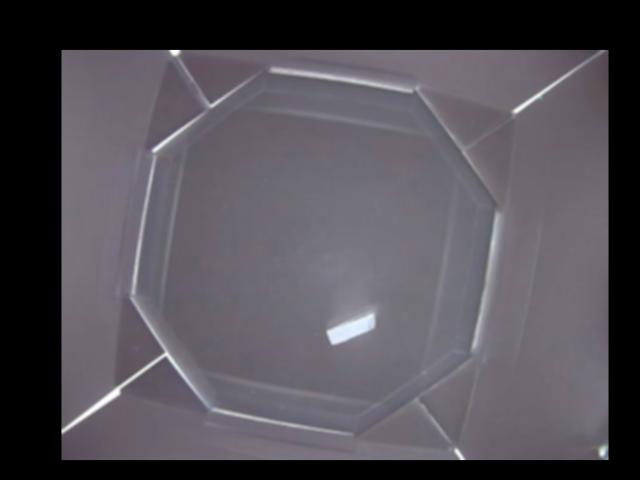China: (325, 310, 378, 347)
